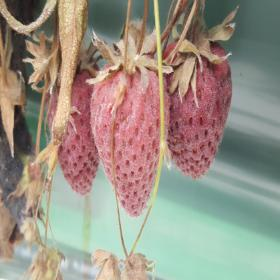Powdery Mildew Fruit: (90, 46, 171, 219), (158, 37, 232, 181), (45, 69, 101, 194)
